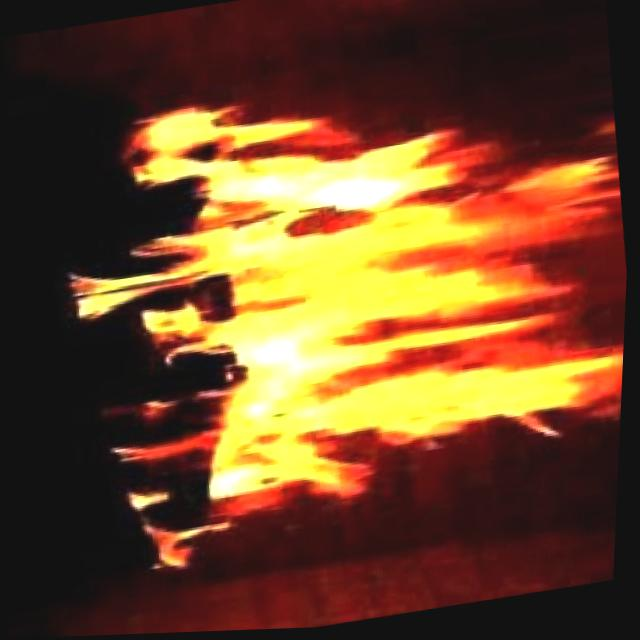helmet: (28, 34, 638, 601)
